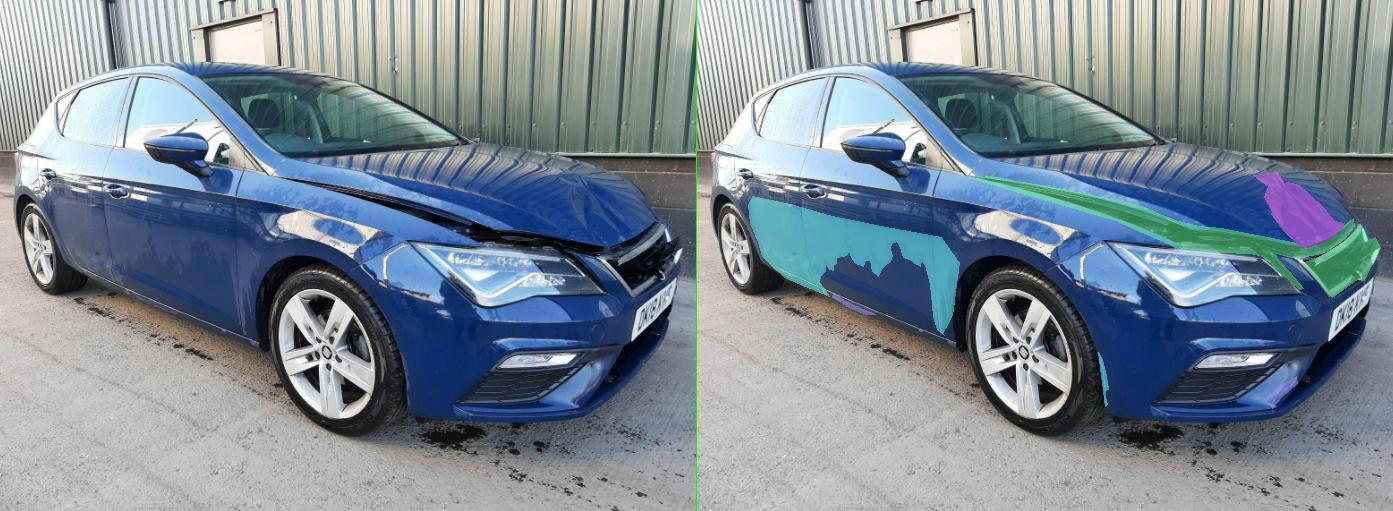Broken part: (550, 176, 1315, 289), (1215, 224, 1367, 297)
Dent: (1113, 172, 1295, 248)
Flaking: (102, 196, 524, 335), (803, 352, 823, 406)
Scratch: (1141, 376, 1201, 408), (270, 293, 356, 314)
